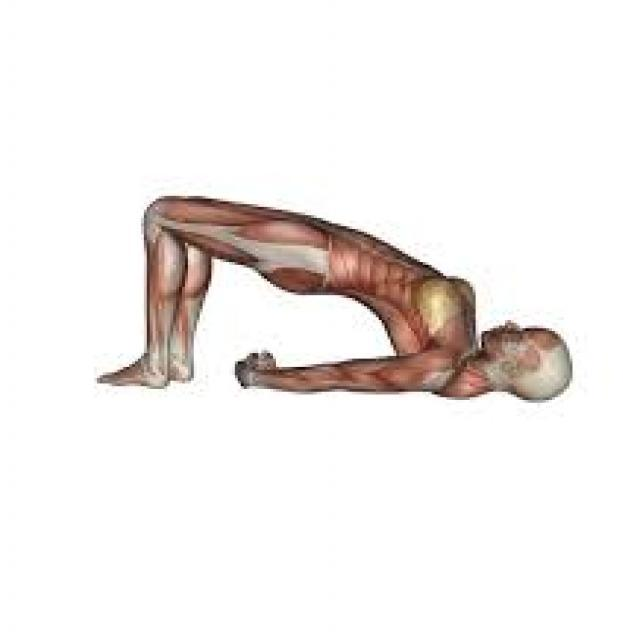yoga-pose bridge: (109, 175, 580, 423)
